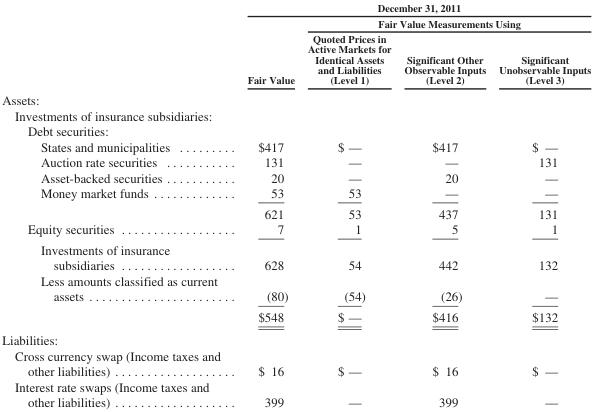table: (1, 1, 590, 409)
table column: (1, 1, 233, 409), (491, 1, 590, 409), (300, 1, 397, 409), (397, 1, 491, 409), (233, 1, 300, 409)
table column header: (1, 1, 590, 89)
table projected row header: (1, 328, 590, 347), (1, 89, 590, 107), (1, 122, 590, 138), (1, 107, 590, 122)
table row: (1, 30, 590, 89), (1, 272, 590, 306), (1, 239, 590, 272), (1, 347, 590, 378), (1, 378, 590, 409), (1, 306, 590, 328), (1, 184, 590, 203), (1, 328, 590, 347), (1, 89, 590, 107), (1, 203, 590, 221), (1, 221, 590, 239), (1, 122, 590, 138), (1, 153, 590, 169), (1, 15, 590, 30), (1, 107, 590, 122), (1, 138, 590, 153), (1, 169, 590, 184), (1, 1, 590, 15)
table spanning cell: (233, 1, 590, 15), (233, 15, 300, 89), (300, 15, 590, 30)
